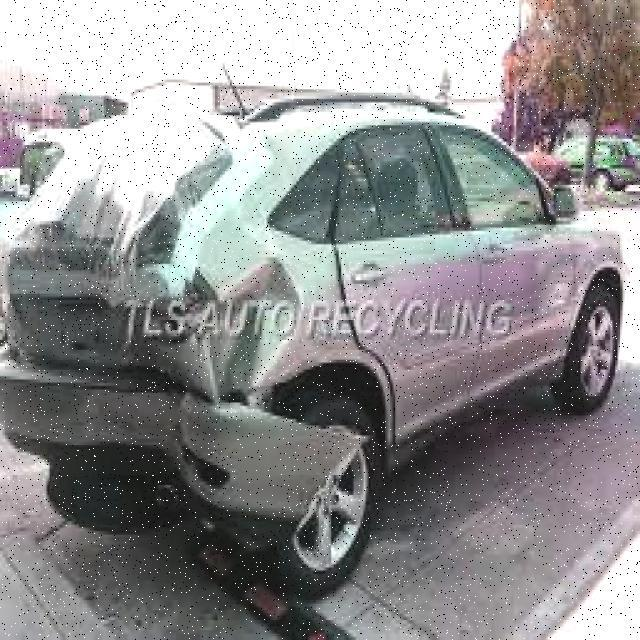car damage: (4, 106, 376, 543)
